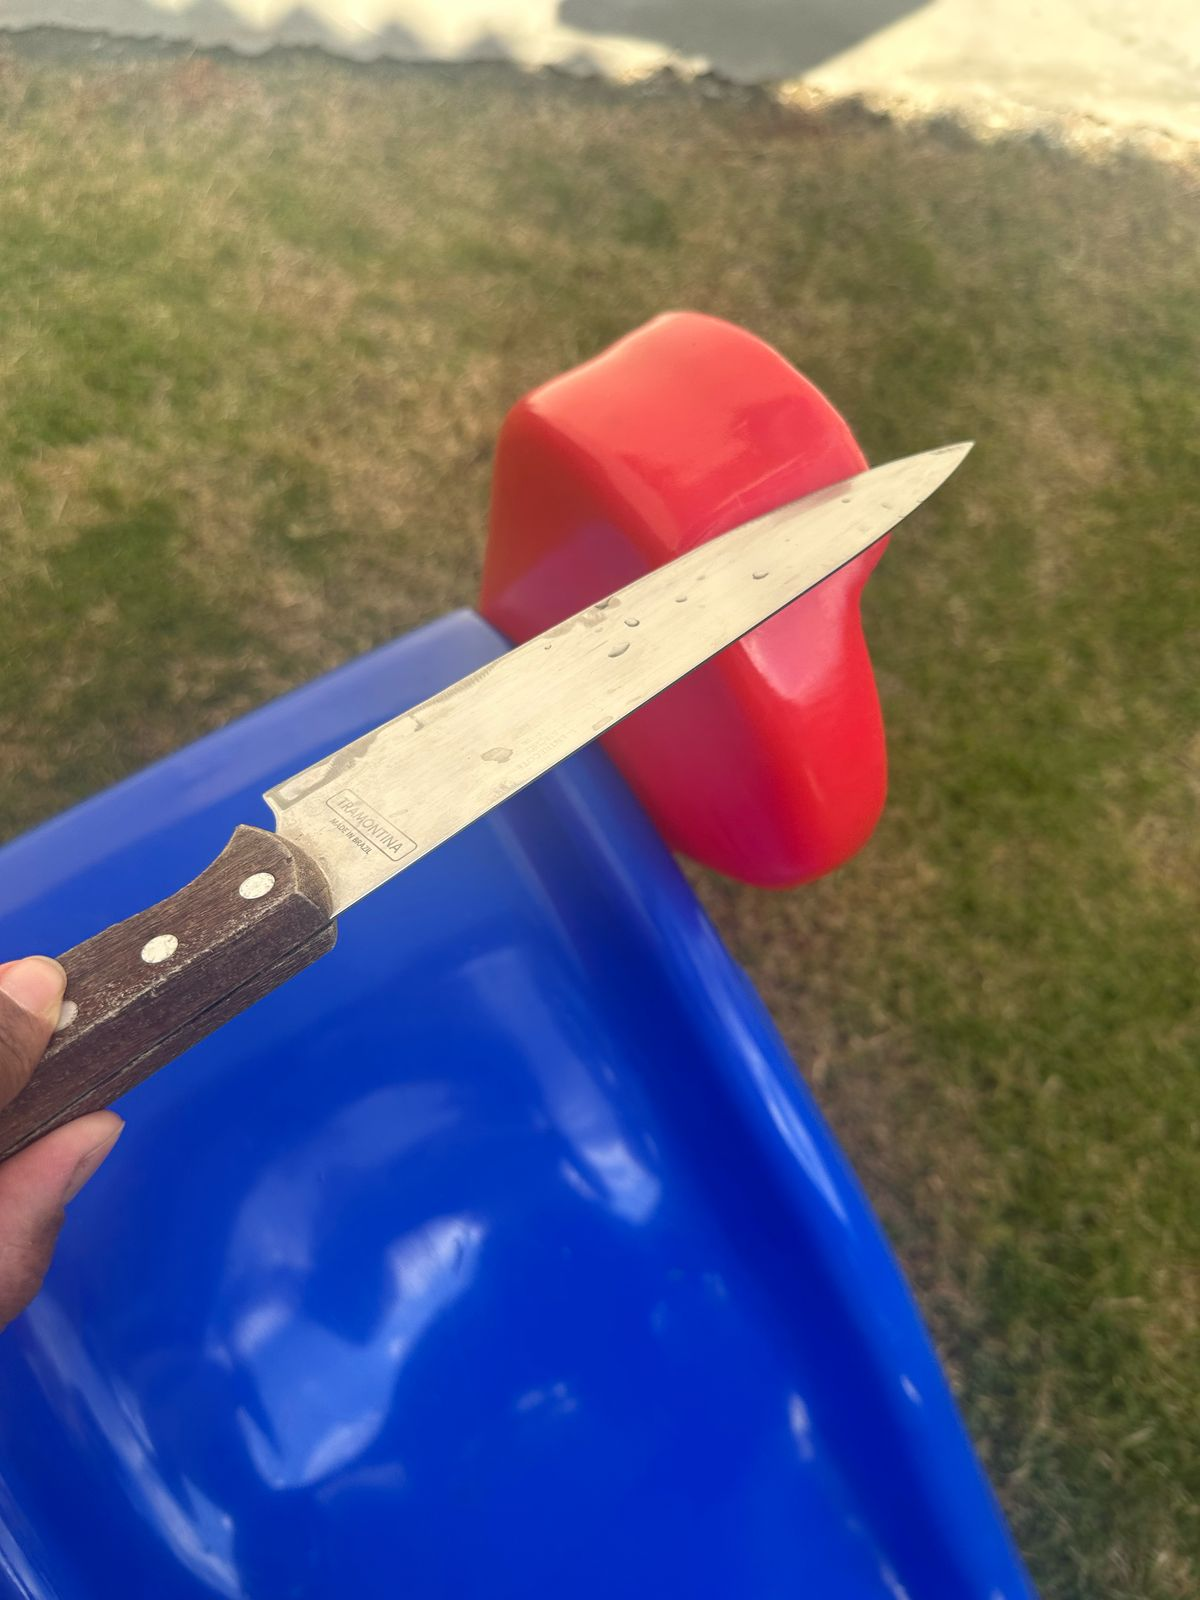faca: (78, 414, 993, 1076)
